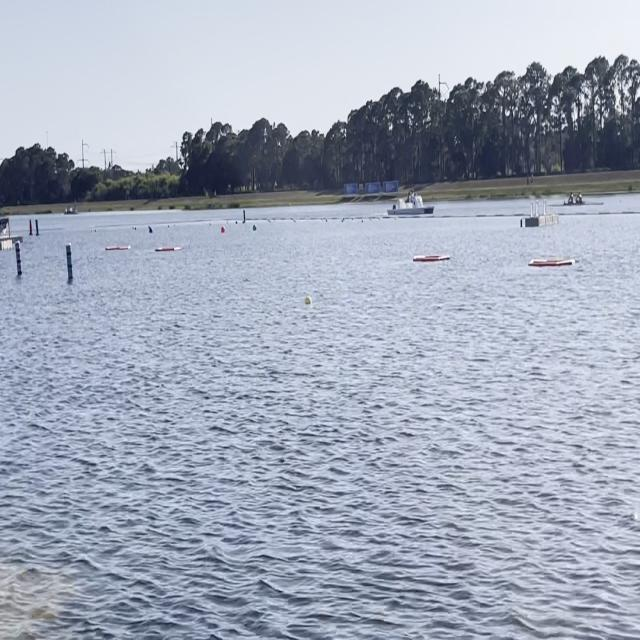buoy: (305, 294, 313, 308), (252, 224, 257, 232), (221, 225, 225, 234)
